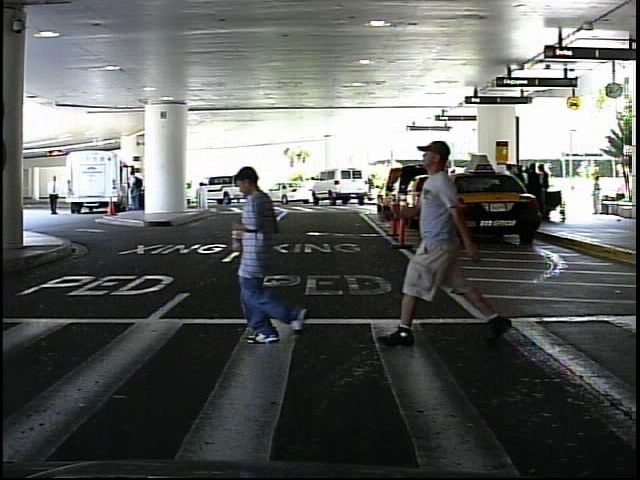person: (374, 134, 506, 357), (231, 153, 331, 354), (46, 171, 65, 217), (588, 172, 607, 218), (364, 172, 380, 202)
